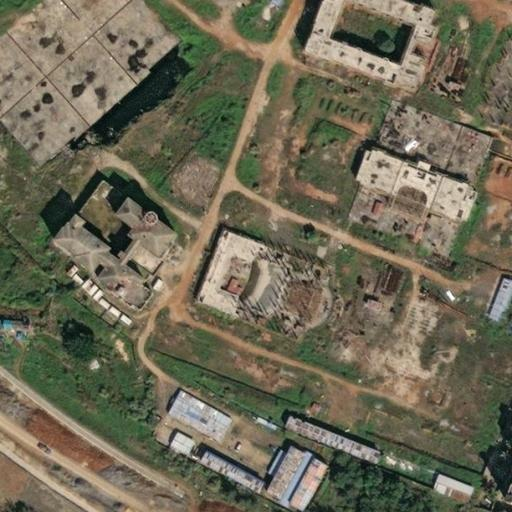building: (40, 187, 167, 291), (289, 0, 425, 93), (373, 91, 495, 184), (185, 228, 248, 312), (154, 392, 217, 439), (189, 449, 250, 489), (379, 160, 428, 204), (343, 145, 390, 190), (416, 173, 461, 217), (265, 451, 301, 504), (254, 444, 291, 495), (279, 458, 314, 505), (420, 475, 461, 502), (477, 278, 502, 320), (108, 274, 140, 306), (337, 439, 368, 462), (315, 429, 343, 452), (273, 411, 302, 432), (296, 421, 321, 444), (158, 430, 181, 452), (499, 302, 512, 336)
